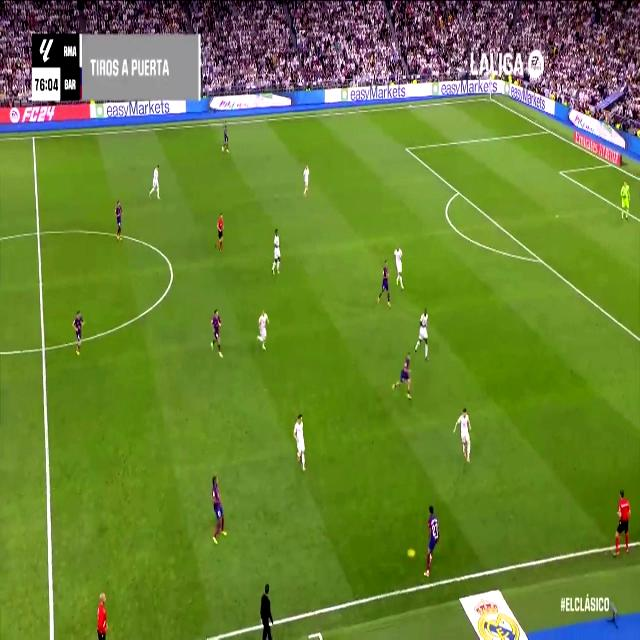bigarea_top_inner: (402, 141, 410, 155)
bottom_arc_area_intersection: (535, 250, 545, 268)
corner: (486, 94, 494, 102)
halfcircle_bottom: (37, 335, 49, 362)
halfcircle_top: (32, 222, 44, 244)
midline_top_intersection: (31, 130, 37, 144)
smallarea_top_inner: (557, 166, 563, 177)
top_arc_area_intersection: (455, 184, 462, 198)
